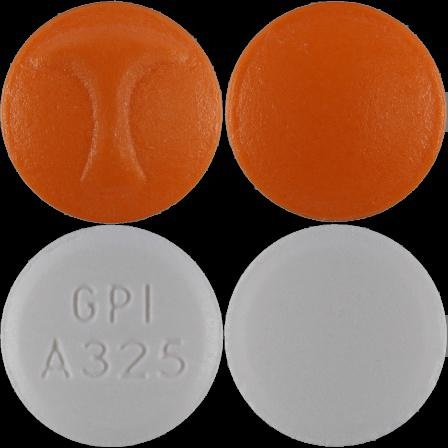0615-0564: (0, 0, 224, 224)
